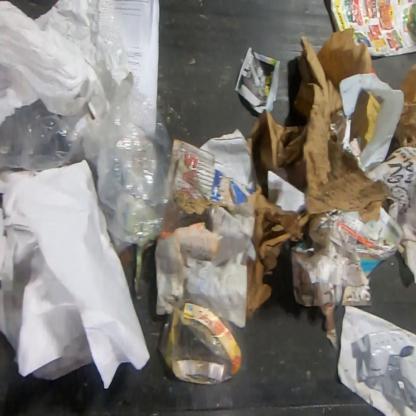cardboard: (247, 26, 393, 250), (153, 128, 311, 329), (362, 146, 415, 285), (329, 0, 415, 59), (394, 62, 416, 148)
soft_plastic: (0, 80, 188, 258), (0, 0, 134, 128), (156, 301, 244, 385), (351, 329, 416, 416)
